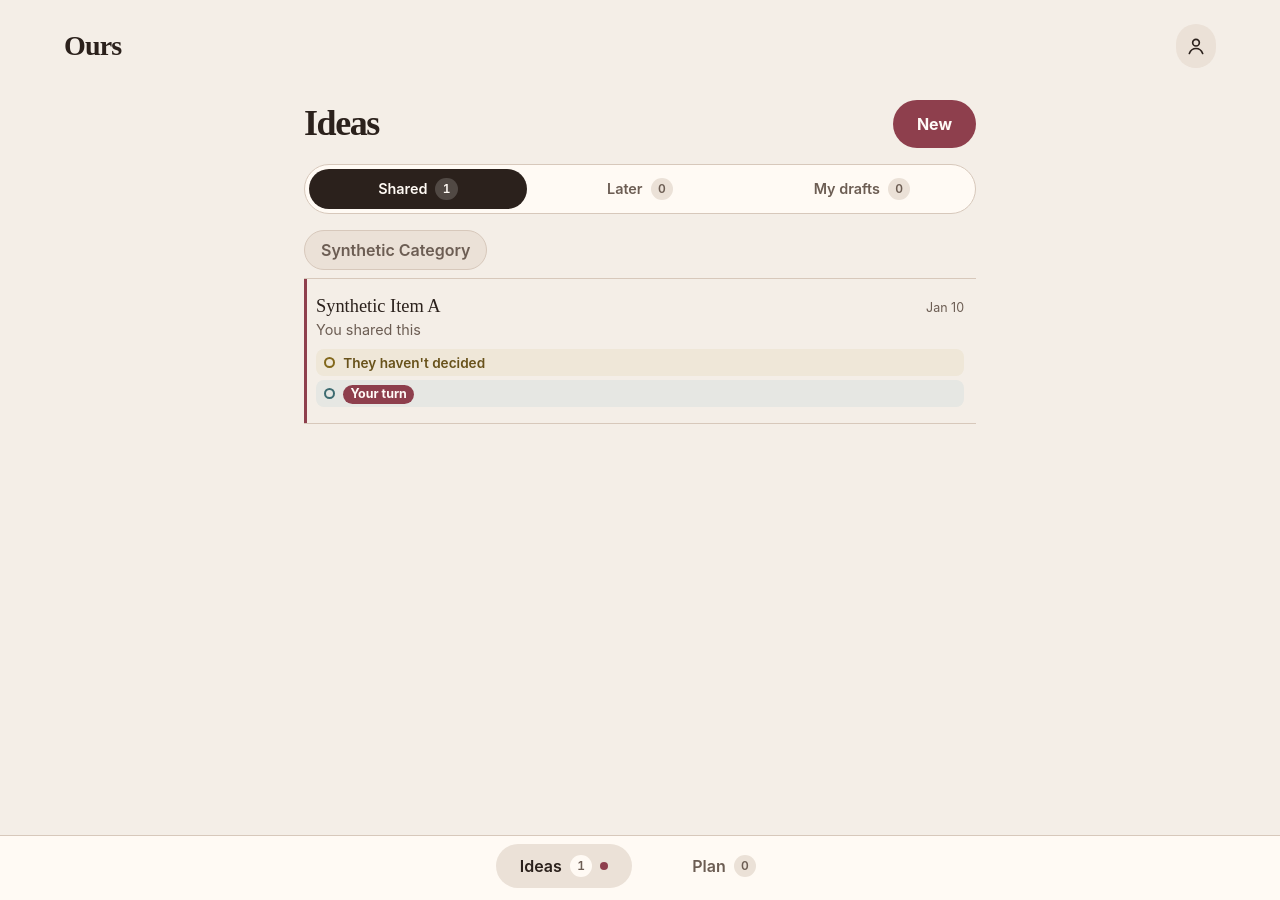
as a sheet over the list › opens from a row over the list and closes back to it, focus on that row
This screenshot has width=1280, height=900.
Click the link "Synthetic Item A".
click(640, 351)  # box 304,279 -> 976,423
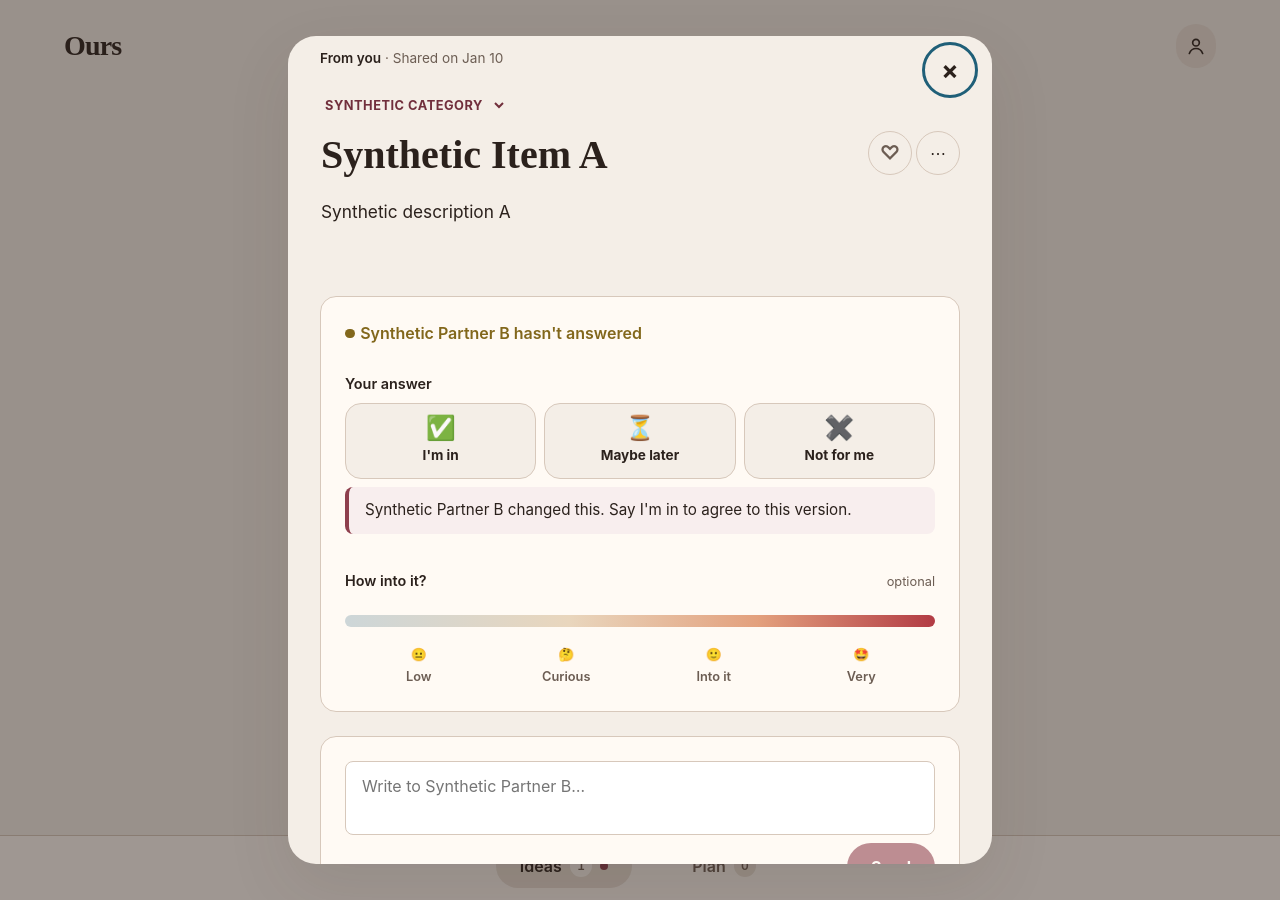
Click the button named "Close".
click(950, 70)  # box 928,48 -> 972,92
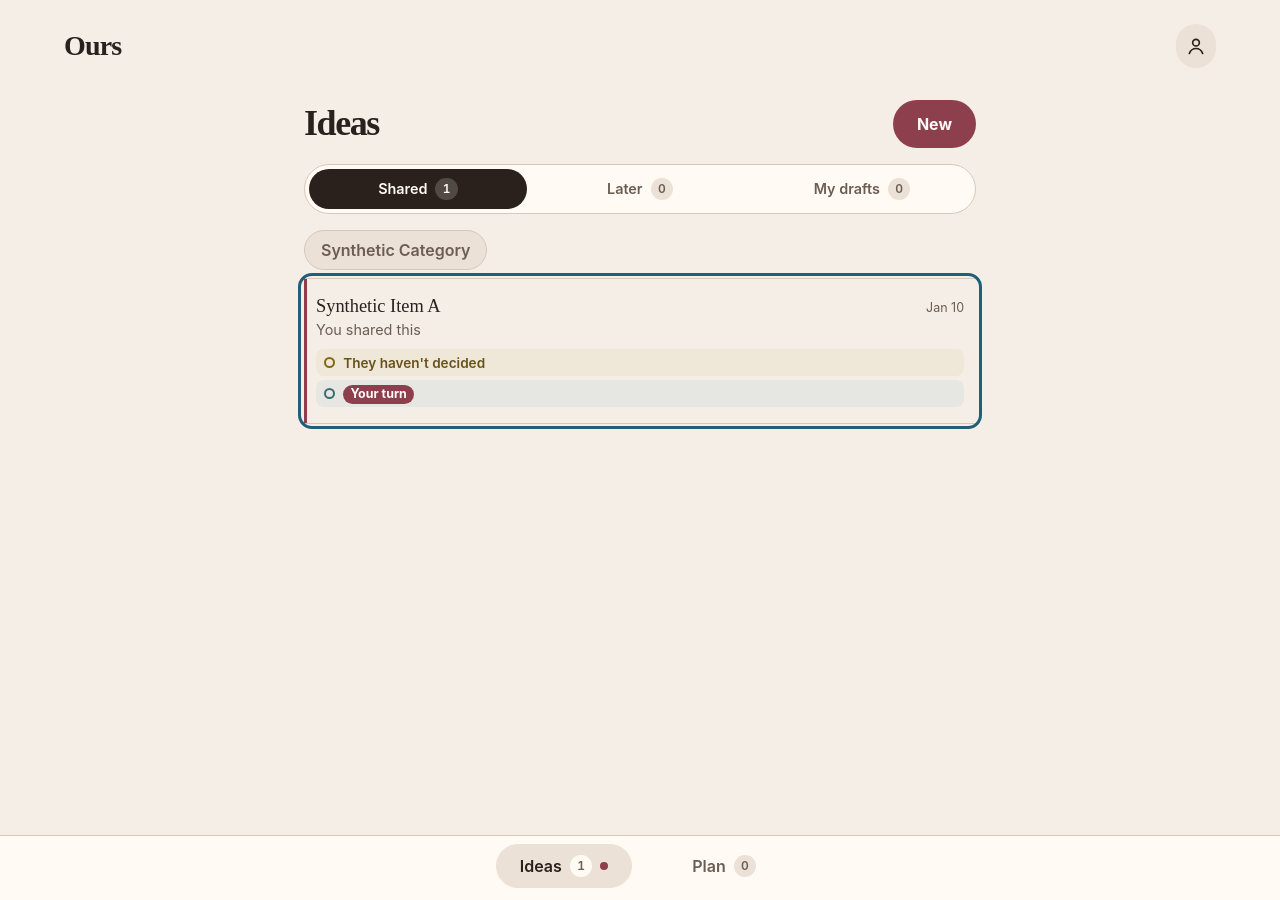
Expected: the dialog is gone
